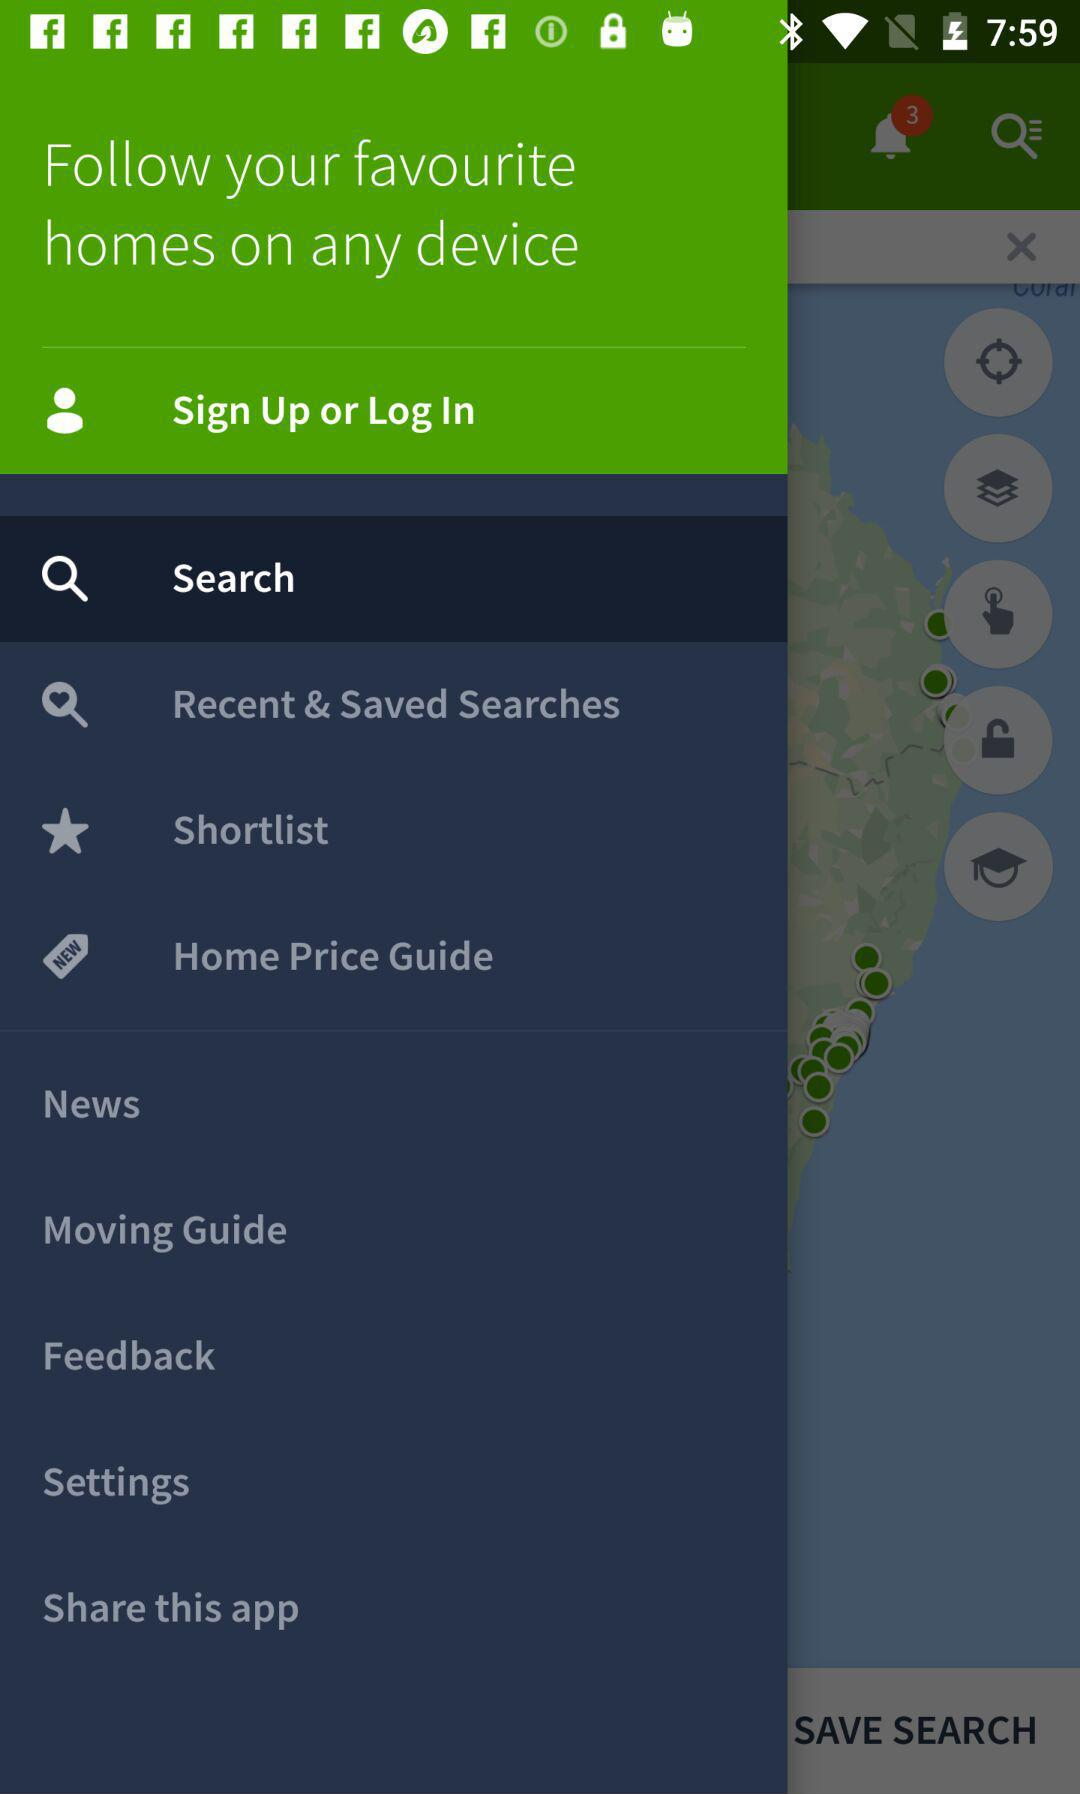Drawer: (1, 65, 788, 1794)
Icon: (41, 554, 92, 604), (40, 680, 91, 730), (42, 807, 91, 856), (46, 386, 87, 437)
Image: (42, 933, 91, 982)
Text: (44, 137, 580, 282), (173, 687, 623, 721), (173, 393, 477, 436), (176, 938, 495, 974), (44, 1590, 300, 1633), (44, 1212, 288, 1255), (44, 1463, 192, 1507), (44, 1339, 218, 1372), (173, 812, 331, 847), (173, 563, 296, 595), (44, 1089, 142, 1121)
UpperTaskBar: (1, 1, 1080, 64)
